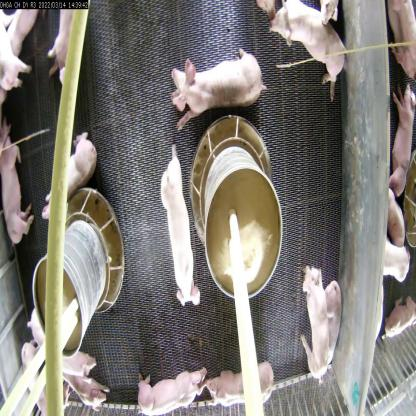Pig: (168, 50, 266, 134), (266, 1, 348, 92), (159, 146, 198, 308), (0, 121, 38, 250), (44, 133, 96, 221), (31, 310, 94, 376), (206, 360, 276, 412), (136, 364, 206, 415), (303, 260, 331, 381), (48, 5, 80, 93), (65, 366, 111, 414), (325, 278, 347, 362)
